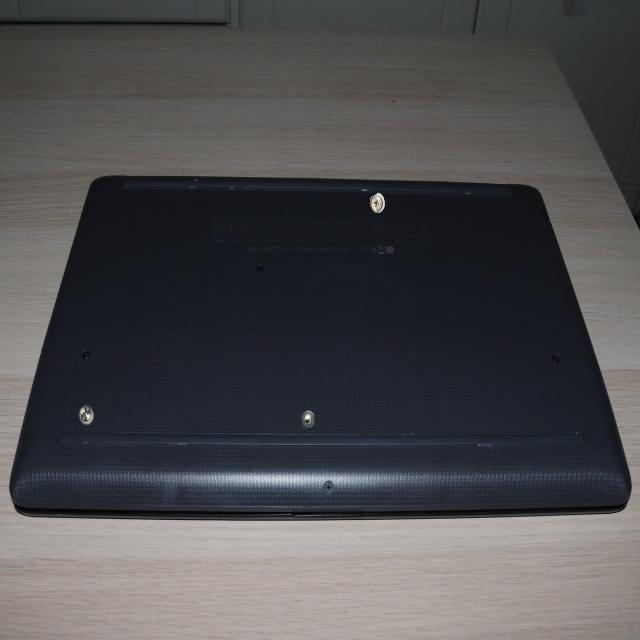lock: (78, 404, 94, 425), (370, 193, 385, 213)
missing_screw: (301, 410, 315, 429)
